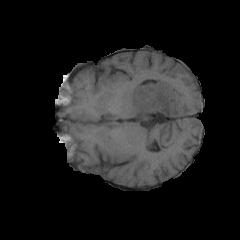glioma: (130, 78, 176, 131)
